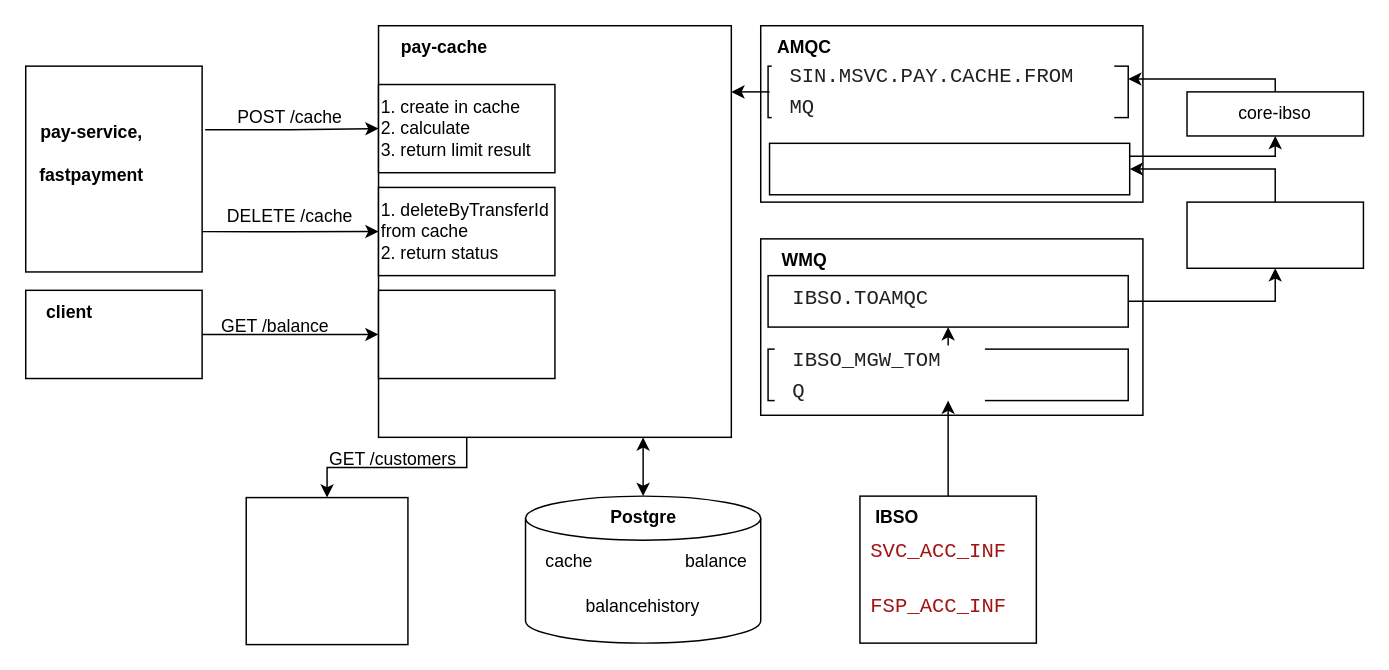
The diagram is 1389 pixels wide and 670 high, and some of its shapes have lost their labels. Here are the shapes that lost their labels. From the top down, the box of each, then its label:
(768, 142, 1130, 195): SIN.IBSO.TOMQ
(1186, 201, 1363, 268): BRIDGE WMQ->AMQC
(377, 289, 555, 379): 1. request to customer by ClientID 2. request to DB 3. return balance
(245, 496, 408, 645): customer
